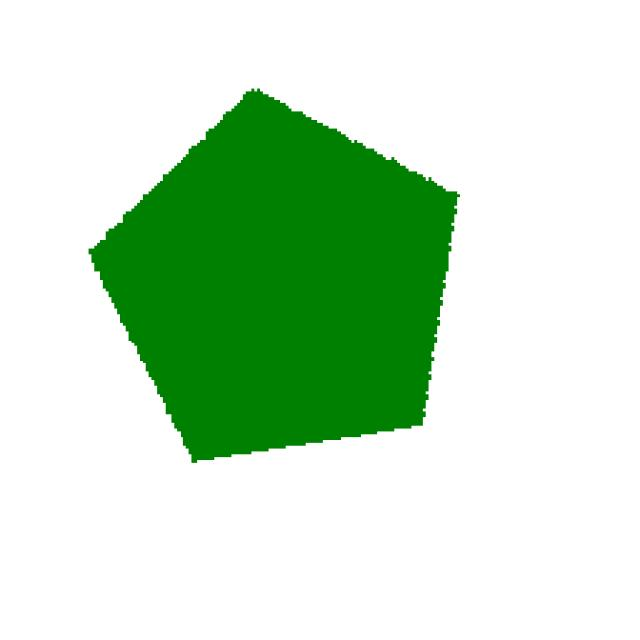Pentagon: (54, 64, 502, 512)
